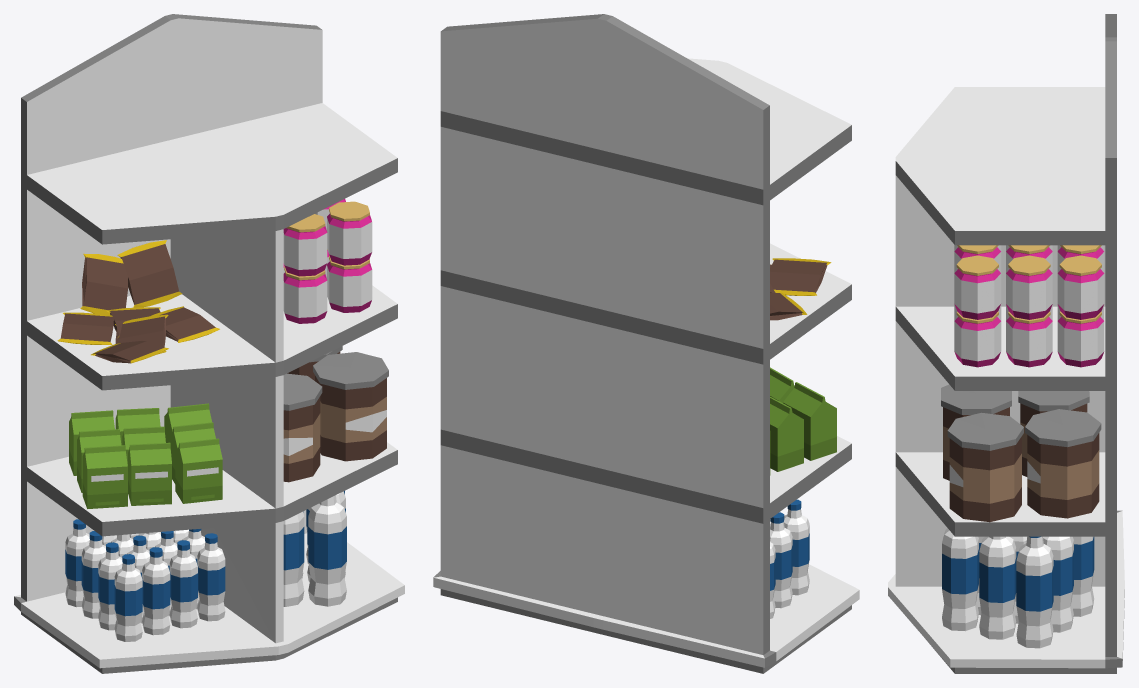
Rendered from SM_Shelf_02.fbx.
3 views of the same model, side by side, from view 1: azimuth 30°, elevation 25°; view 2: azimuth 150°, elevation 25°; view 3: azimuth 270°, elevation 25° (orthographic). The views are drawn at different scales.
Parts seen in each view (by area): view 1: SM_Shelf_02; view 2: SM_Shelf_02; view 3: SM_Shelf_02.
Part boxes in pixels (x1,y1,x2,y2): SM_Shelf_02: [14, 14, 404, 673]; SM_Shelf_02: [433, 14, 859, 673]; SM_Shelf_02: [888, 14, 1124, 673].
Bounding box in the file's own units: 135 × 236 × 90.01.
